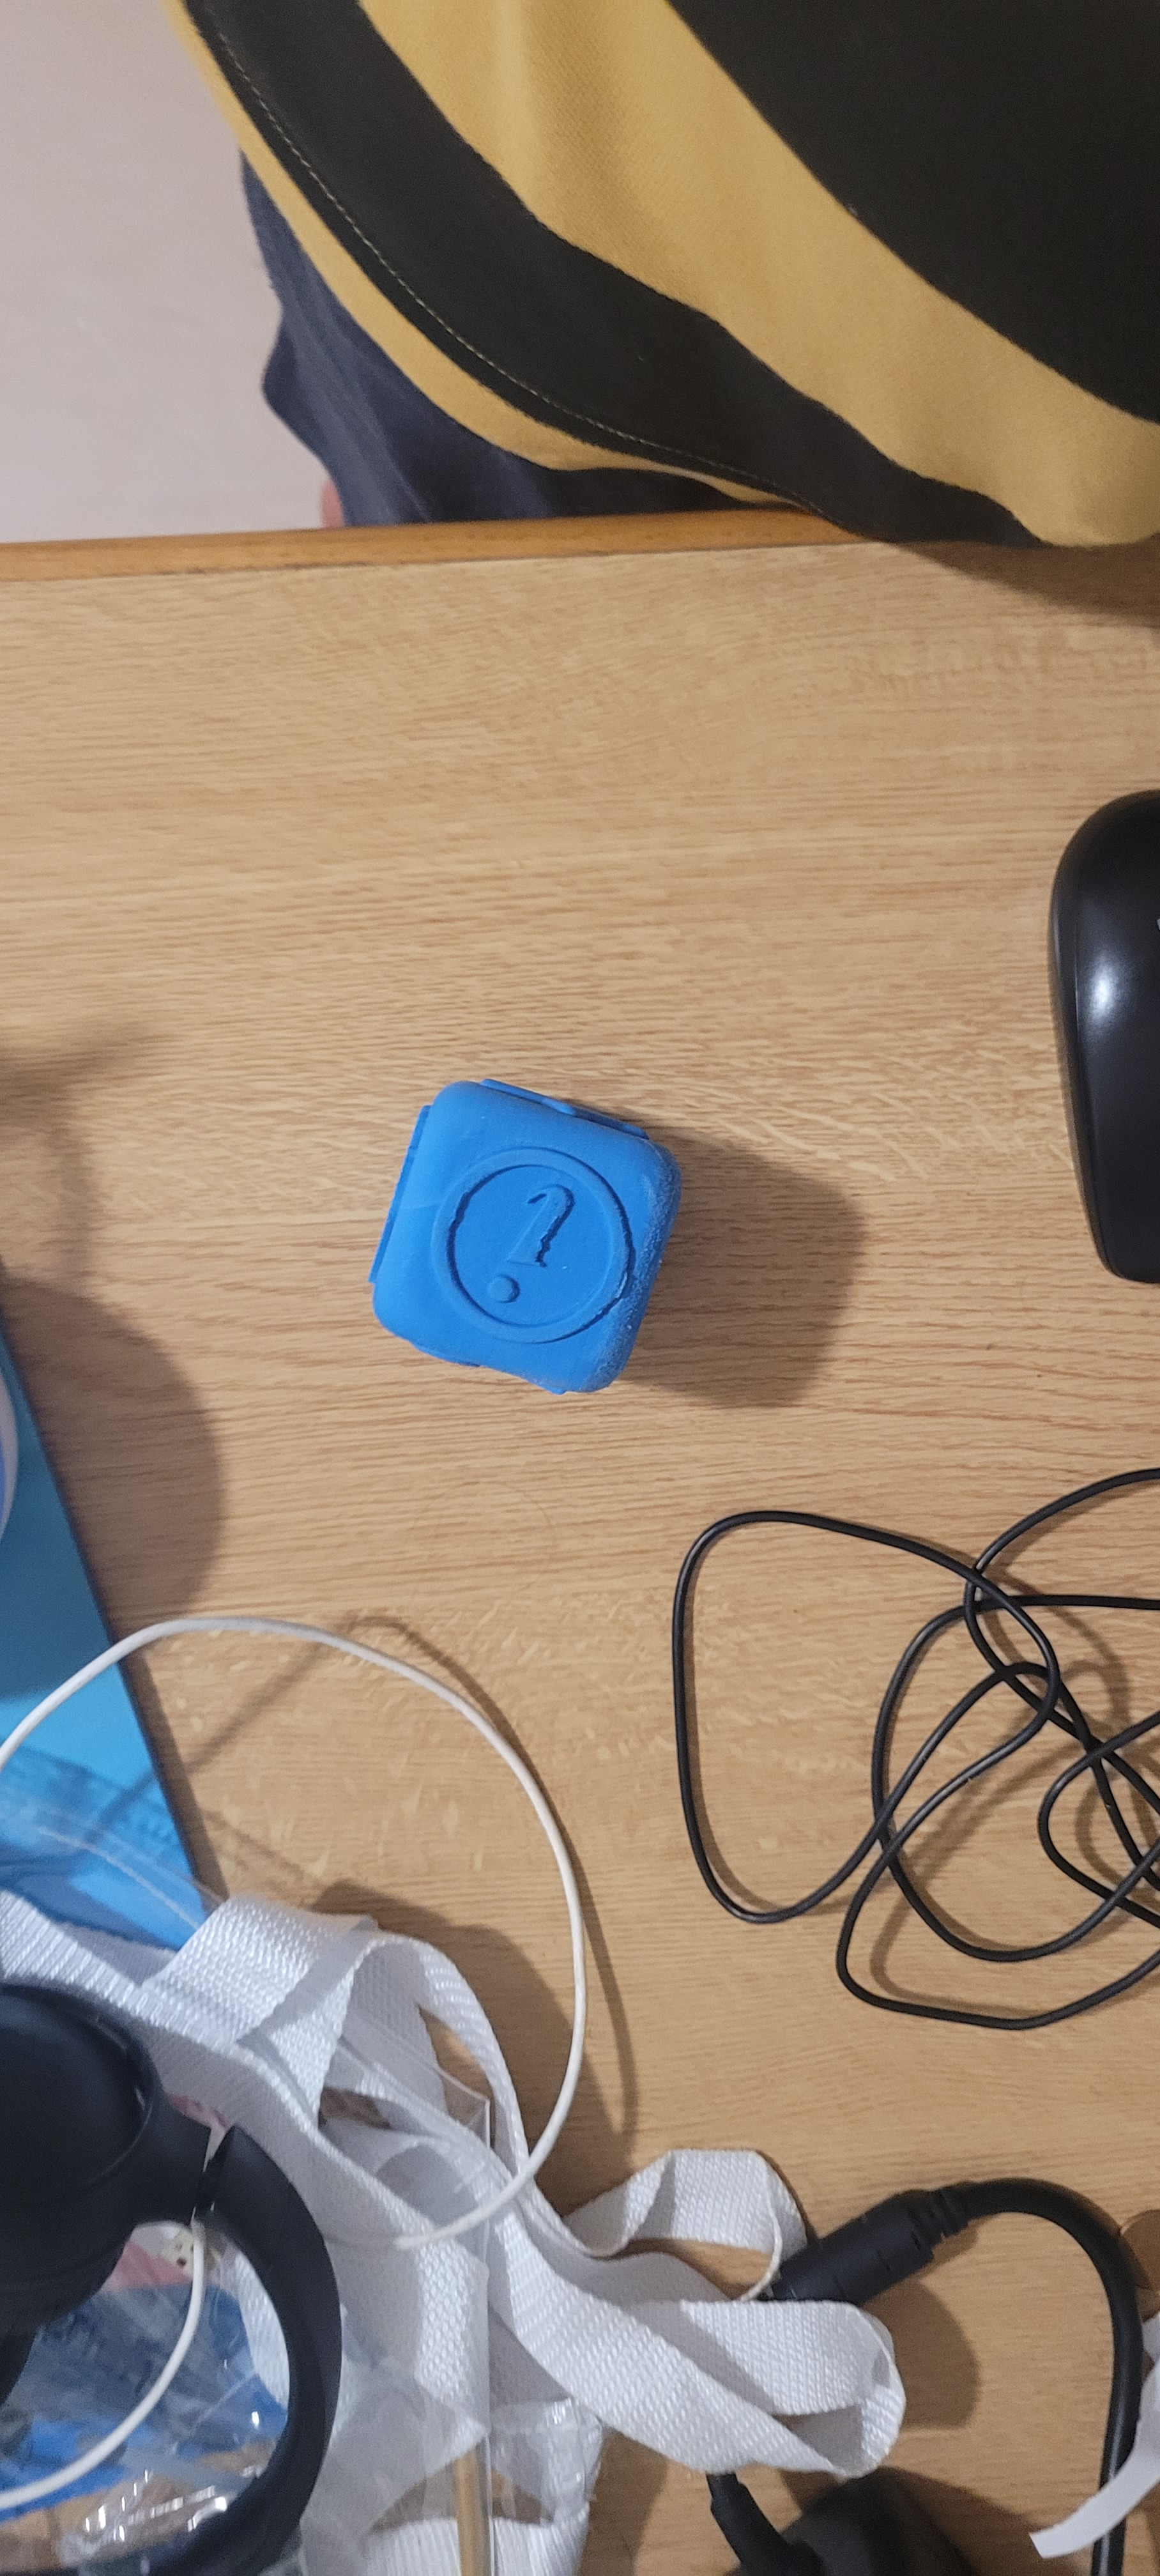Info: (437, 1138, 633, 1370)
